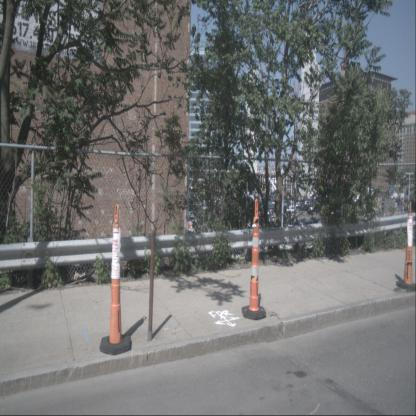movable_object-trafficcone: (100, 203, 131, 356), (242, 198, 266, 320), (396, 201, 415, 291)
vehicle-car: (291, 211, 300, 218)
